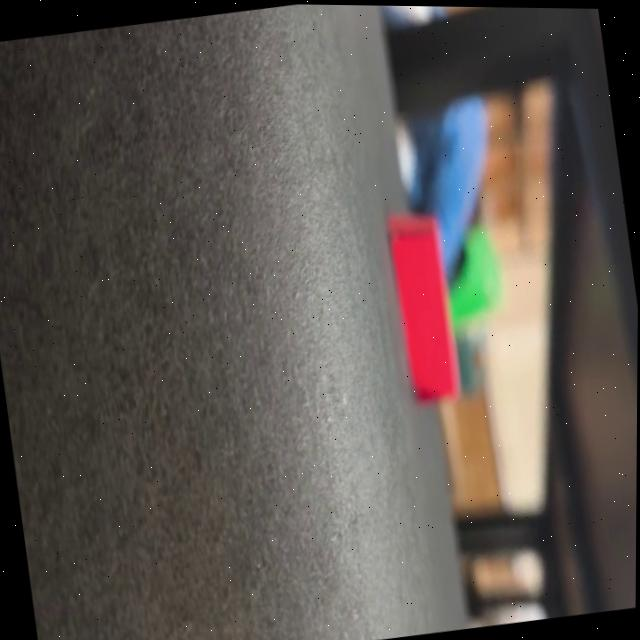red block: (382, 205, 467, 408)
